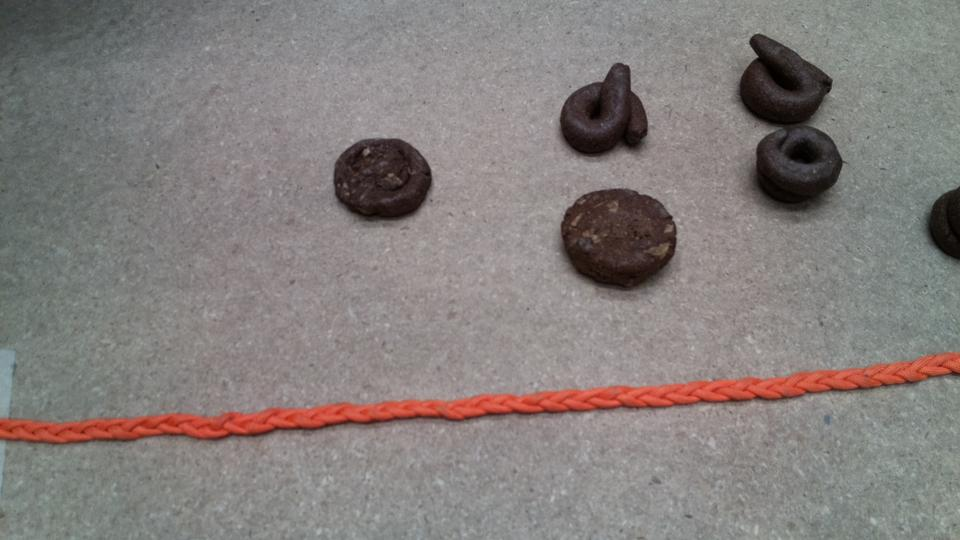poop: (551, 182, 688, 302), (729, 30, 840, 128), (558, 59, 653, 161), (333, 135, 438, 221), (748, 126, 850, 205)
rope: (4, 397, 481, 451), (437, 375, 900, 430), (783, 337, 960, 417)
